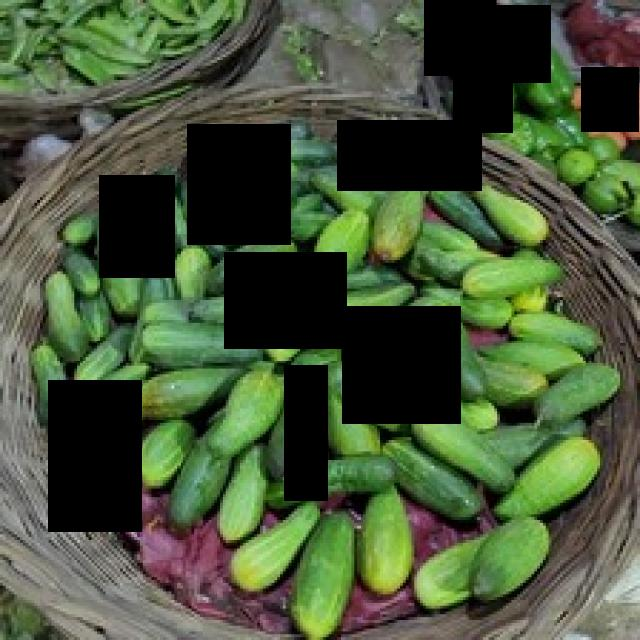Capsicum: (425, 0, 497, 76), (454, 50, 514, 133), (492, 5, 552, 83)
Carrot: (582, 68, 640, 133)
Cucumber: (49, 380, 143, 532), (342, 306, 462, 424), (188, 124, 292, 245), (225, 253, 348, 350), (338, 120, 482, 191), (100, 175, 176, 278), (285, 365, 329, 501)
